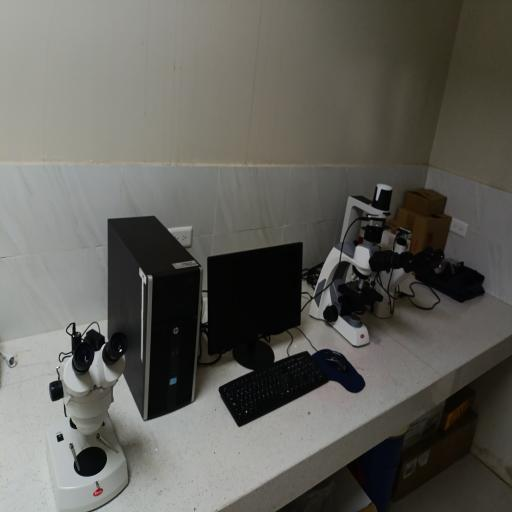Microscopio_estereo: (31, 309, 138, 512)
